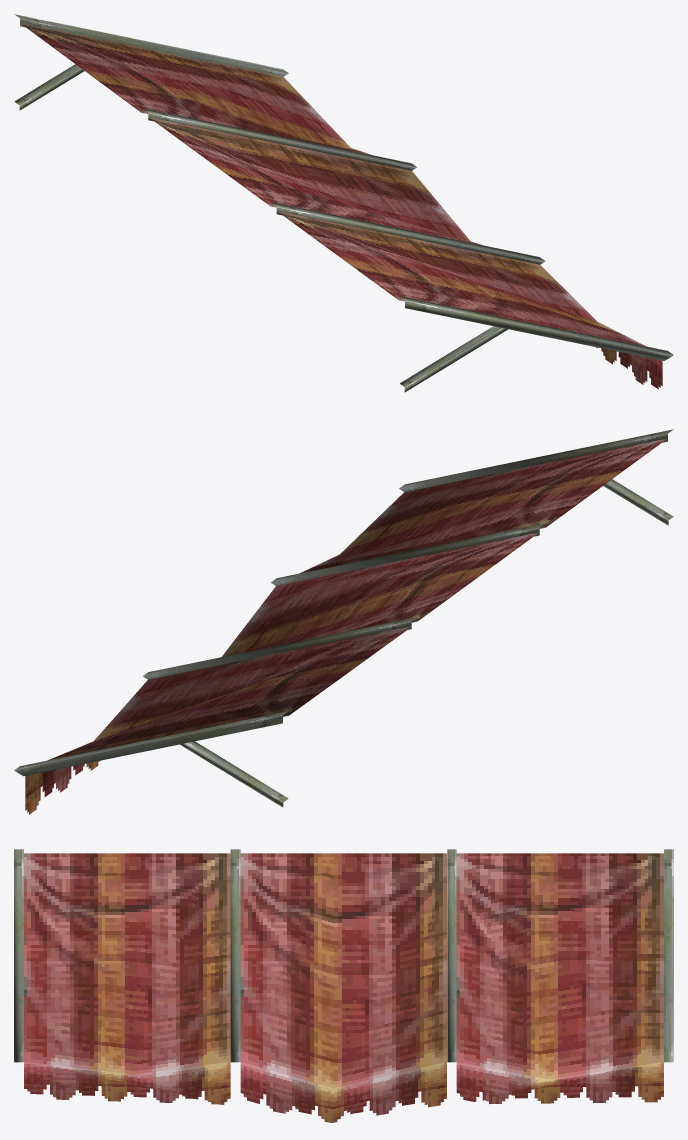
Rendered from Canopy1.glb.
3 renders of one model, top to bottom at view 1: azimuth 30°, elevation 25°; view 2: azimuth 150°, elevation 25°; view 3: azimuth 270°, elevation 25°, orthographic. The views are drawn at different scales.
Visible parts, largest first — view 1: CANOPY1; view 2: CANOPY1; view 3: CANOPY1.
Part boxes in pixels (x1,y1,x2,y2): CANOPY1: (14, 14, 673, 392); CANOPY1: (14, 429, 673, 814); CANOPY1: (14, 849, 673, 1122).
Bounding box in the file's own units: 1.27 × 0.895 × 3.2.
Materials: 2 (2 with a texture image).
